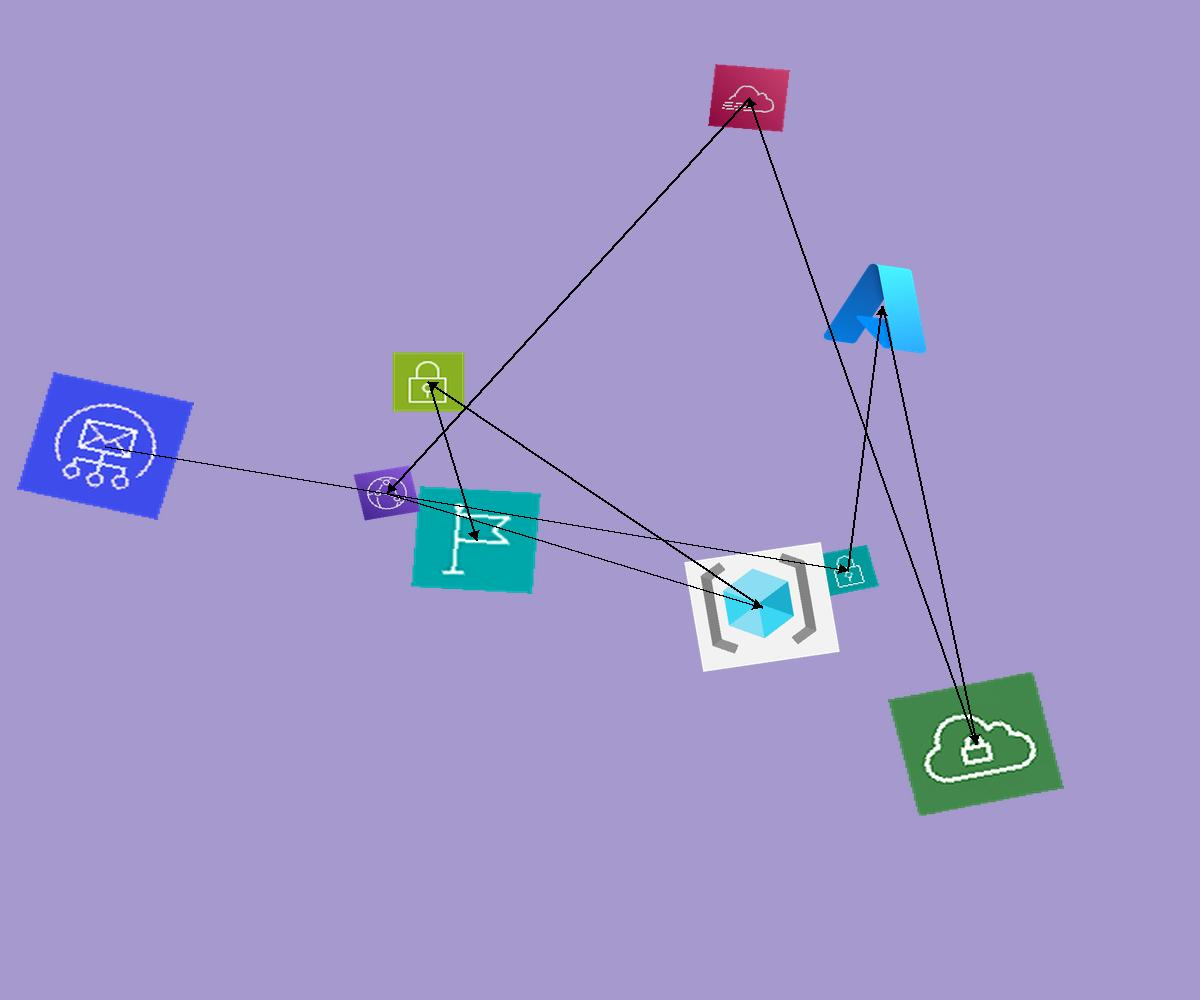AWS-CloudFront: (353, 465, 421, 521)
AWS-CloudTrail: (708, 64, 790, 132)
AWS-Private-subnet: (816, 544, 880, 597)
AWS-Private_vpc: (888, 671, 1064, 817)
AWS-Public-subnet: (391, 351, 466, 413)
AWS-Region: (411, 486, 541, 594)
AWS-Simple-Email-Service: (17, 372, 194, 520)
Azure_resource_group: (684, 542, 840, 672)
Azure_services: (817, 252, 948, 361)
